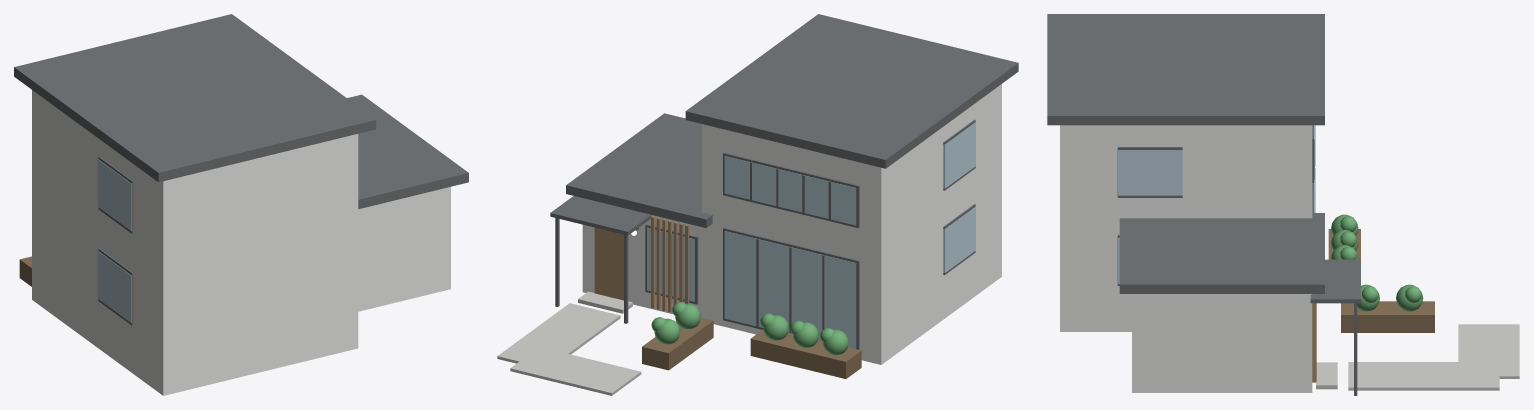
File: rumah-modern-v1.glb
3 renders of one model, left to right at view 1: azimuth 30°, elevation 25°; view 2: azimuth 150°, elevation 25°; view 3: azimuth 270°, elevation 25°, orthographic. The views are drawn at different scales.
Visible parts, largest first — view 1: Walls, RoofFascia, GlassFrames; view 2: Walls, RoofFascia, GlassFrames, Walkway, WoodSlatDoor, PlanterSoil, Canopy, Plants; view 3: RoofFascia, Walls, Walkway, GlassFrames, PlanterSoil, Plants, Canopy, WoodSlatDoor.
Part boxes in pixels (x1,y1,x2,y2): Walls: (32,90,450,395); RoofFascia: (14,14,468,209); GlassFrames: (97,156,133,325); Walls: (582,84,1001,364); RoofFascia: (566,14,1018,228); GlassFrames: (645,119,975,349); Walkway: (497,303,641,395); WoodSlatDoor: (578,216,689,313); PlanterSoil: (642,317,861,378); Canopy: (550,196,651,323); Plants: (651,302,848,355); RoofFascia: (1047,14,1324,293); Walls: (1060,125,1312,392); Walkway: (1348,324,1519,390); GlassFrames: (1117,125,1315,285); PlanterSoil: (1328,229,1434,332); Plants: (1331,214,1423,311); Canopy: (1310,259,1360,395); WoodSlatDoor: (1312,303,1337,389).
Size of the model in its own units: 10.7 by 6.78 by 13.1.
